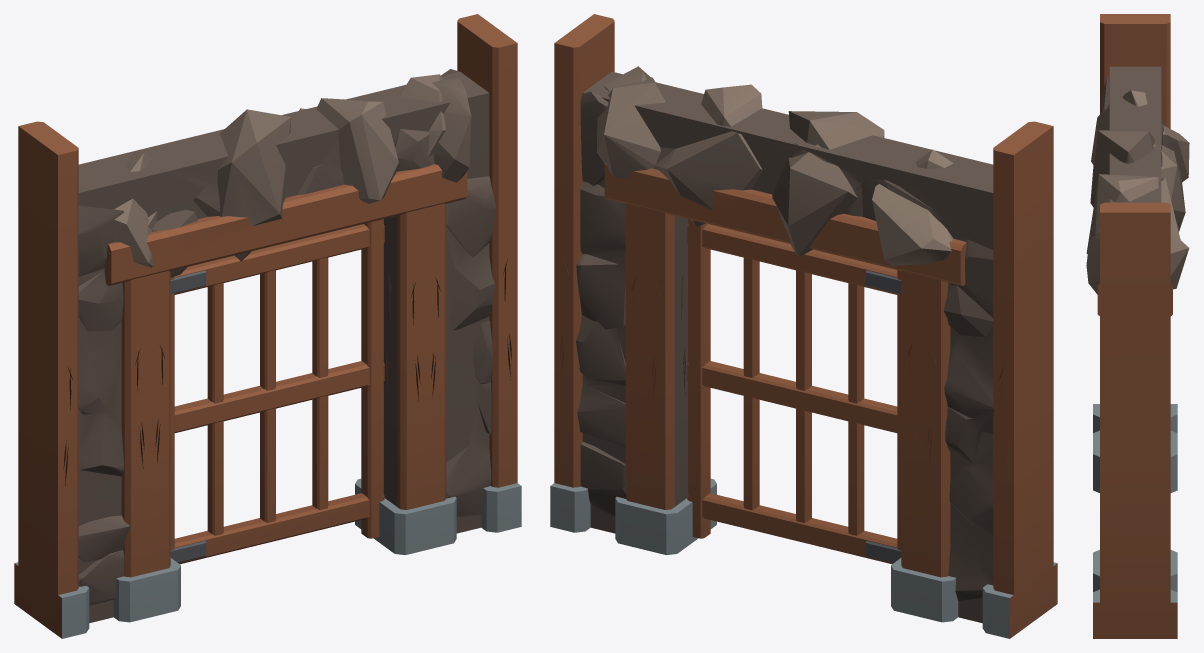
The model's file is wall_cave_gated_A.glb.
3 renders of one model, left to right at view 1: azimuth 30°, elevation 25°; view 2: azimuth 150°, elevation 25°; view 3: azimuth 270°, elevation 25°, orthographic. The views are drawn at different scales.
Visible parts, largest first — view 1: Item; view 2: Item; view 3: Item.
Part boxes in pixels (bbox=[...]): Item: bbox=[14, 14, 521, 638]; Item: bbox=[550, 14, 1057, 638]; Item: bbox=[1086, 14, 1189, 638].
Size of the model in its own units: 4 by 4 by 0.8766.
2 materials, 2 textured.
